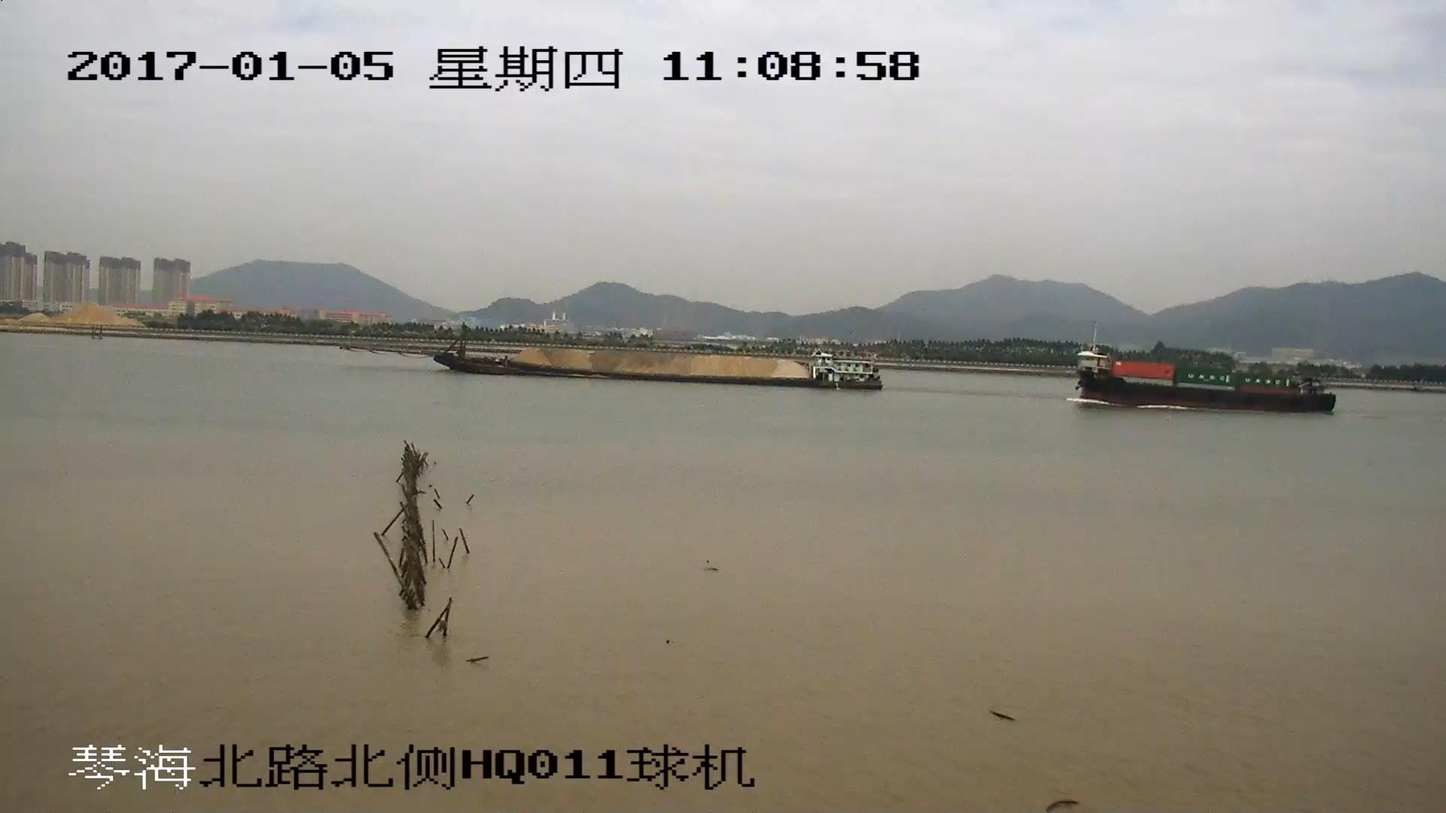container ship: (1075, 343, 1338, 407)
ore carrier: (353, 324, 882, 389)
